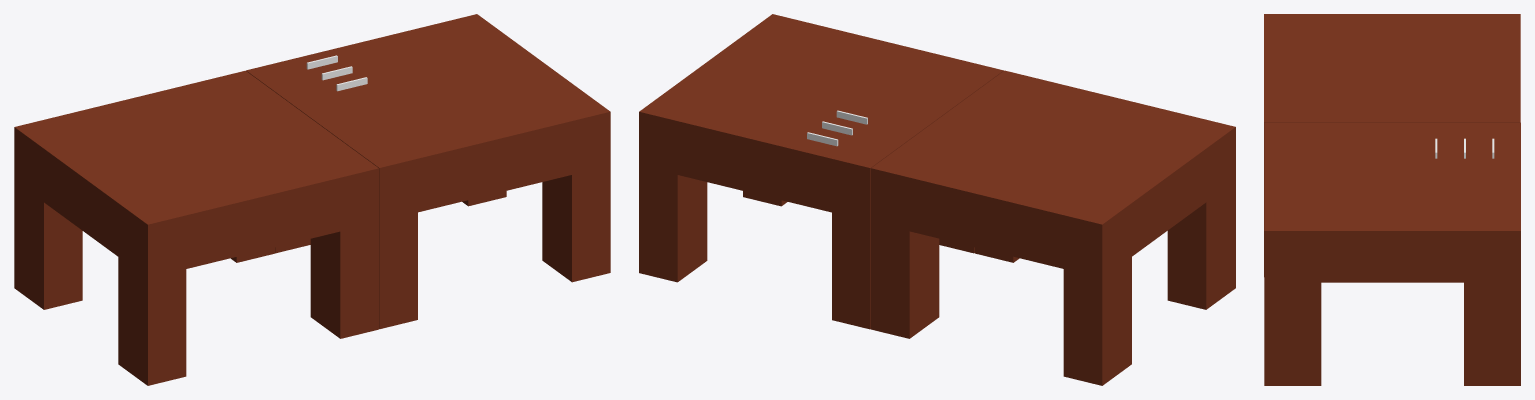
File: keva_sideways.dae
The picture shows the model from 3 angles, left to right: view 1: azimuth 30°, elevation 25°; view 2: azimuth 150°, elevation 25°; view 3: azimuth 270°, elevation 25°; orthographic projection. The views are drawn at different scales.
Visible parts, largest first — view 1: base (×7); view 2: base (×7); view 3: base (×4).
Part boxes in pixels (bbox=[...]): base (×7): bbox=[14, 14, 610, 385]; base (×7): bbox=[639, 14, 1235, 385]; base (×4): bbox=[1264, 14, 1520, 385].
Bounding box in the file's own units: 1.8 × 0.9009 × 0.6235.
